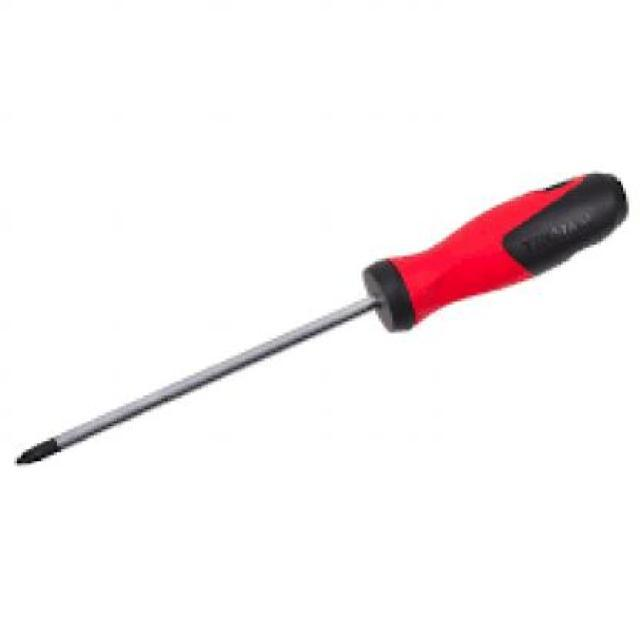screwdriver: (13, 176, 630, 473)
